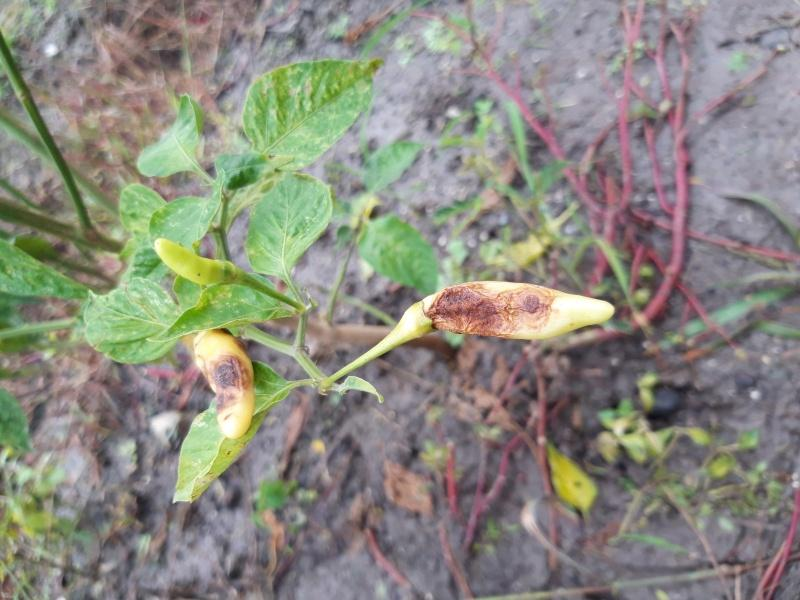antraknosa: (419, 280, 621, 342), (191, 325, 257, 438)
cabai_normal: (152, 235, 239, 297)
